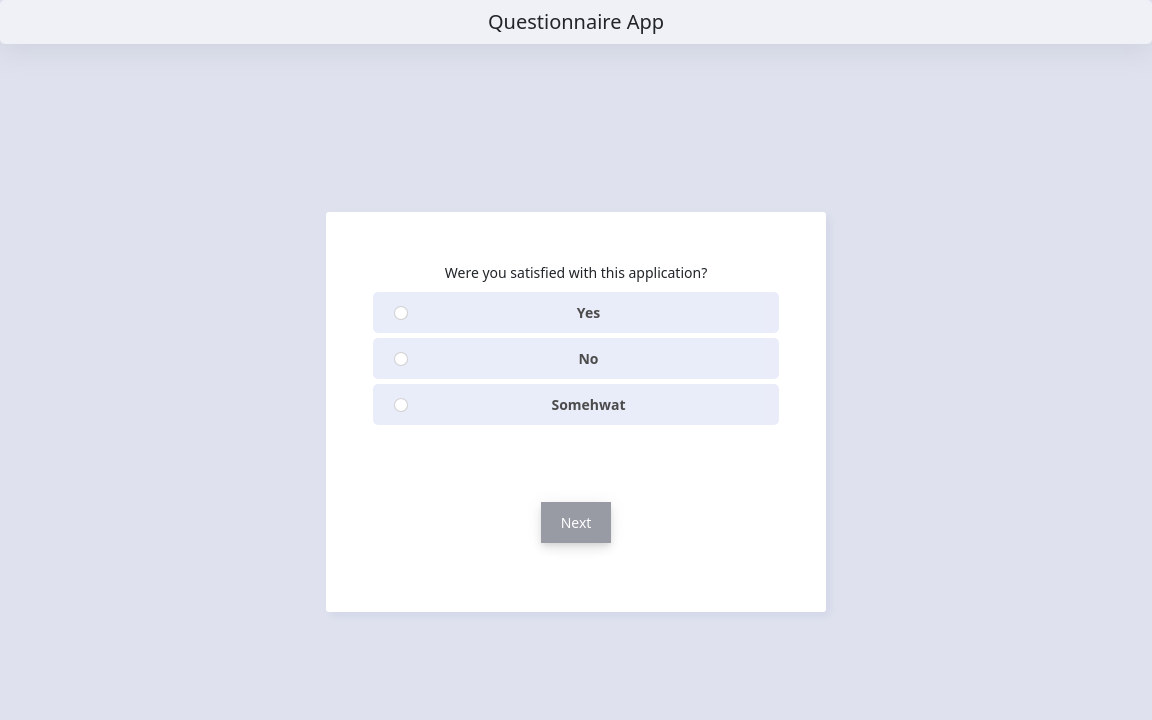
Scenario: should enable next button
The width and height of the screenshot is (1152, 720).
Expected: the button "Next" has attribute disabled, [541,502,611,543]
What coordinates should you click on to do the following:
click the radio button labelled "Yes"
I would click on:
 (401, 312)
Its box is [394,306,408,320].
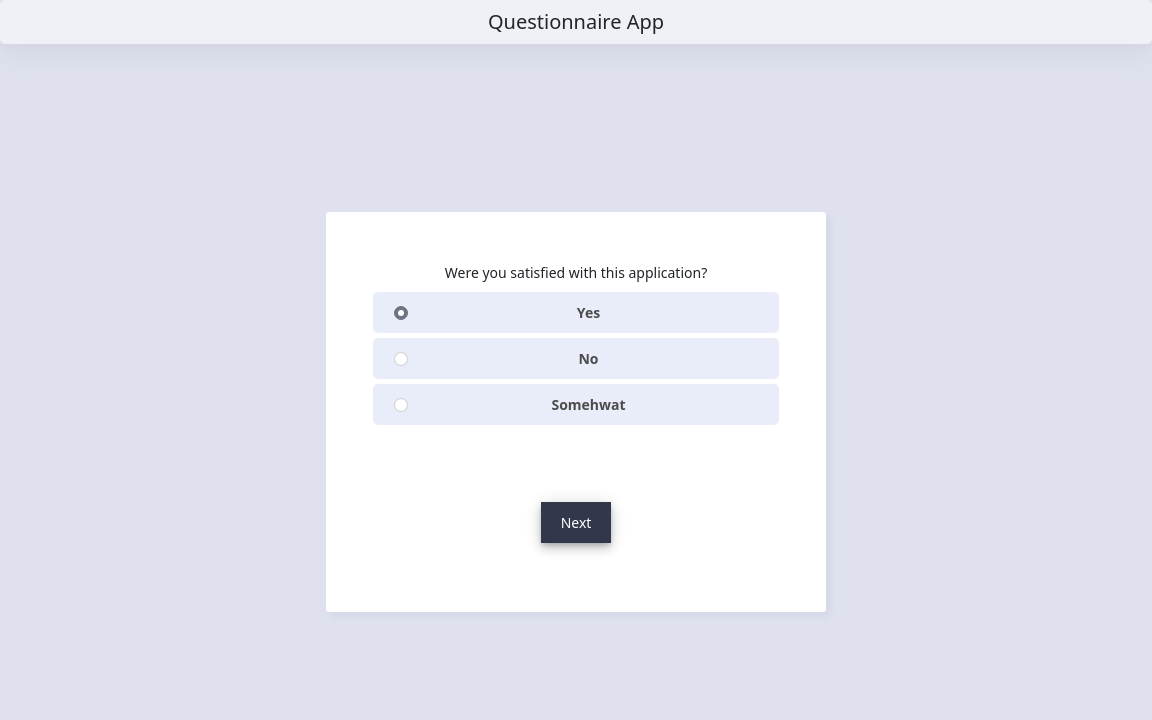
Expected: the button "Next" is enabled, [541,502,611,543]
